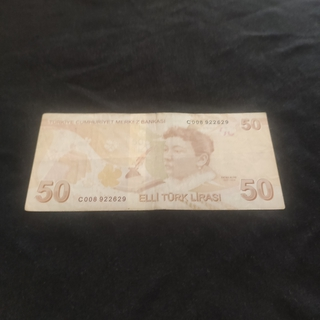50TLBack: (24, 110, 285, 212)
